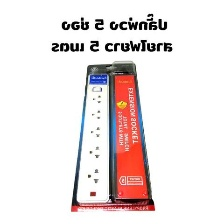book: (64, 59, 157, 216)
three_eye_plug: (73, 71, 112, 206)
